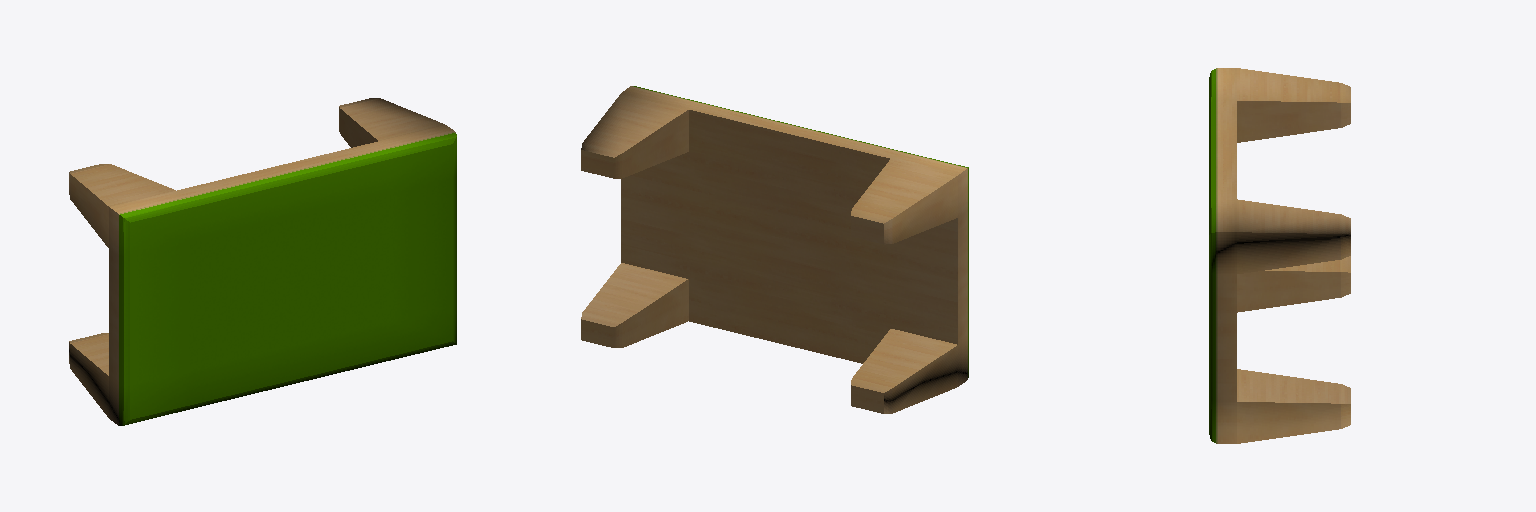
3 views of the same model, side by side, from view 1: azimuth 30°, elevation 25°; view 2: azimuth 150°, elevation 25°; view 3: azimuth 270°, elevation 25° (orthographic).
Parts seen in each view (by area): view 1: Box001; view 2: Box001; view 3: Box001.
Boxes of the visible parts, x1,y1,x2,y2 form: Box001: [69, 98, 456, 425]; Box001: [581, 86, 968, 413]; Box001: [1209, 68, 1350, 443].
Bounding box in the file's own units: 62.51 × 37.58 × 22.82.
Materials: 1 (1 with a texture image).